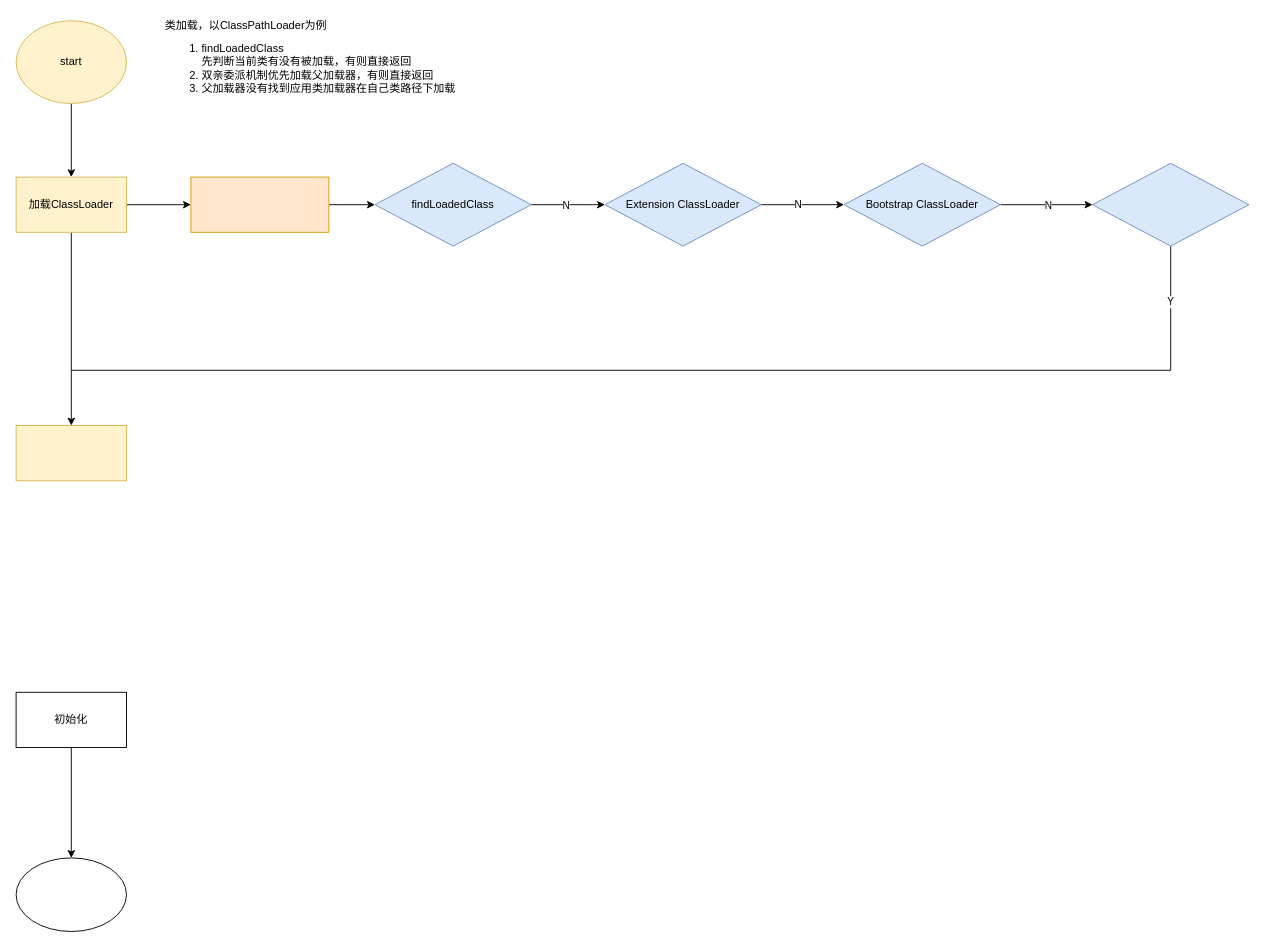
This 1265x948 diagram has some shape labels left out. The shapes that lost their labels are listed below. From the top down, each one's centre as x and y in pixels, then its label:
point 259,204: ClassPathLoader
point 1170,204: findClass
point 70,453: 链接
